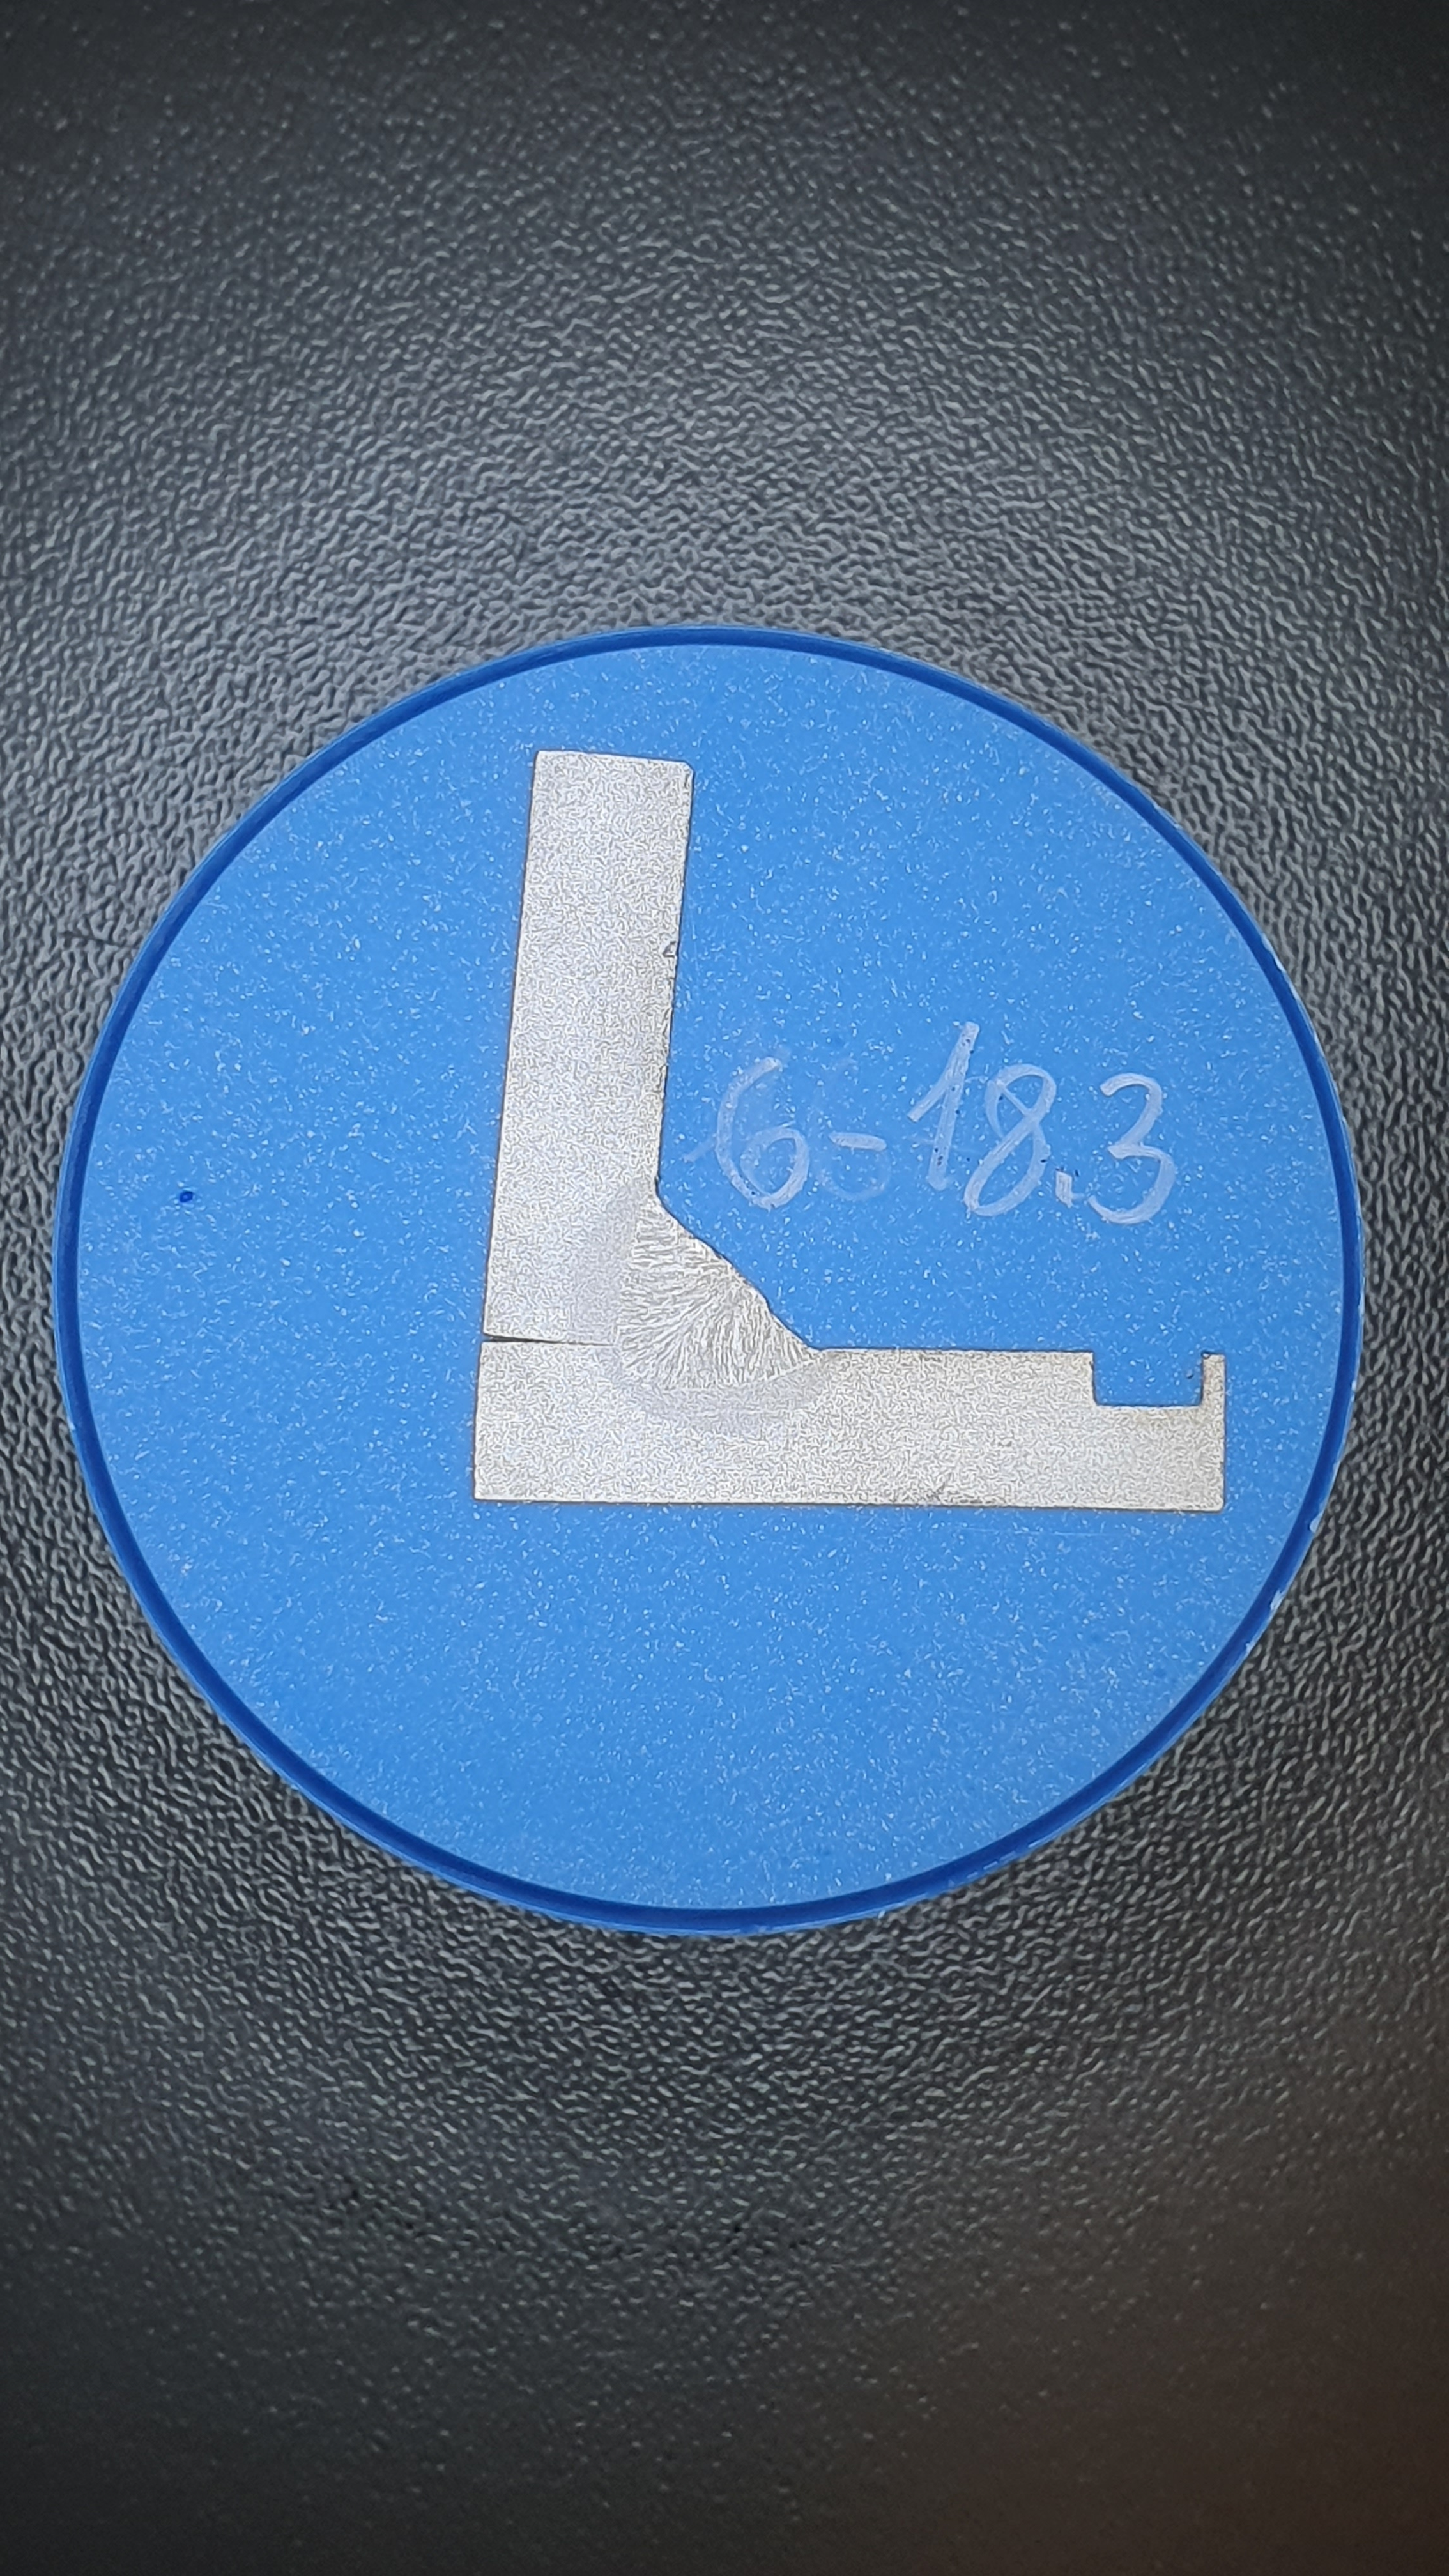Fusion: (611, 1190, 820, 1391)
Hintergrund: (77, 642, 1343, 1905)
Metall: (474, 750, 1225, 1512)
Nebenbereich: (569, 1173, 840, 1435)
